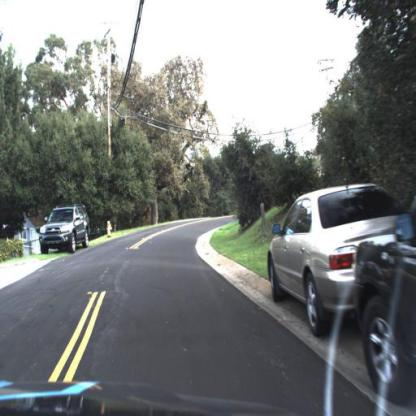car: (265, 179, 415, 328), (34, 196, 96, 266)
